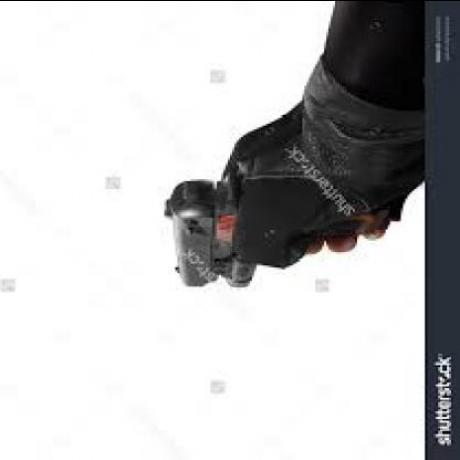weapon: (164, 171, 290, 293)
